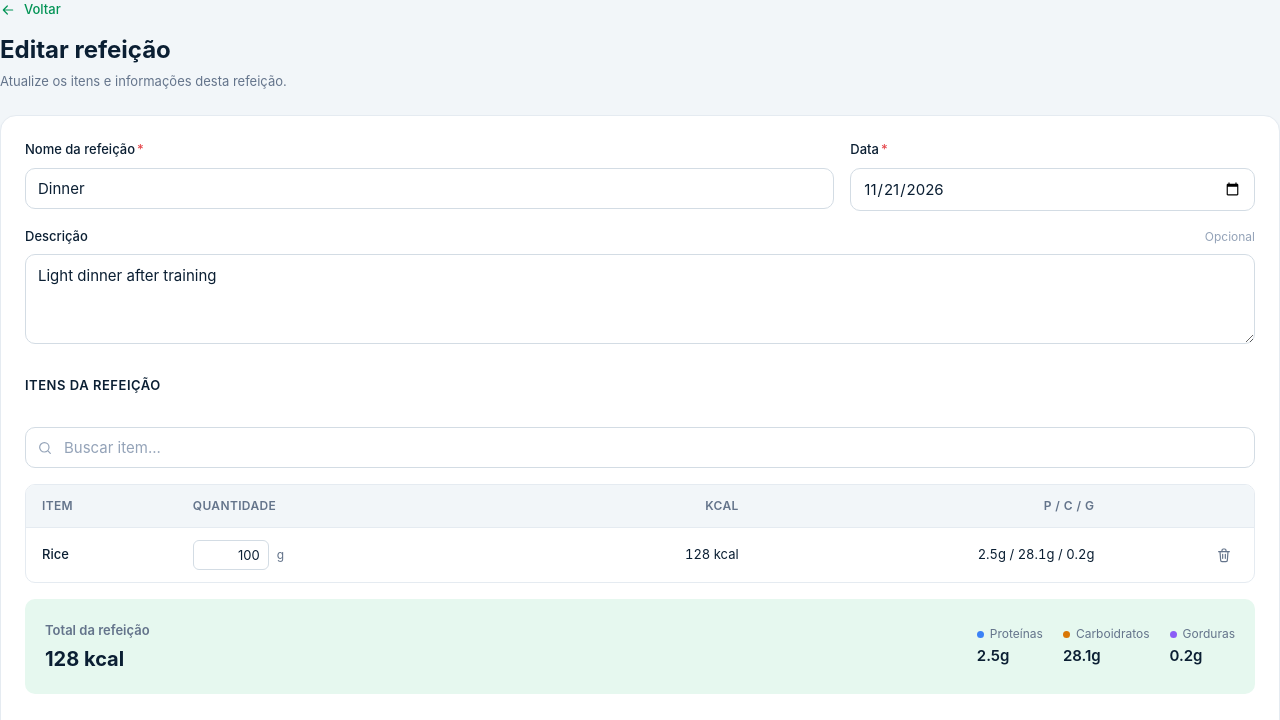
Scenario: MealEditPage › shows the saved quantity and saves one typed with a comma
Replace the text in the field named "Quantidade de Rice" with "150,5" at {"x": 231, "y": 555}, box [193,540,269,570]
(page scrolled)
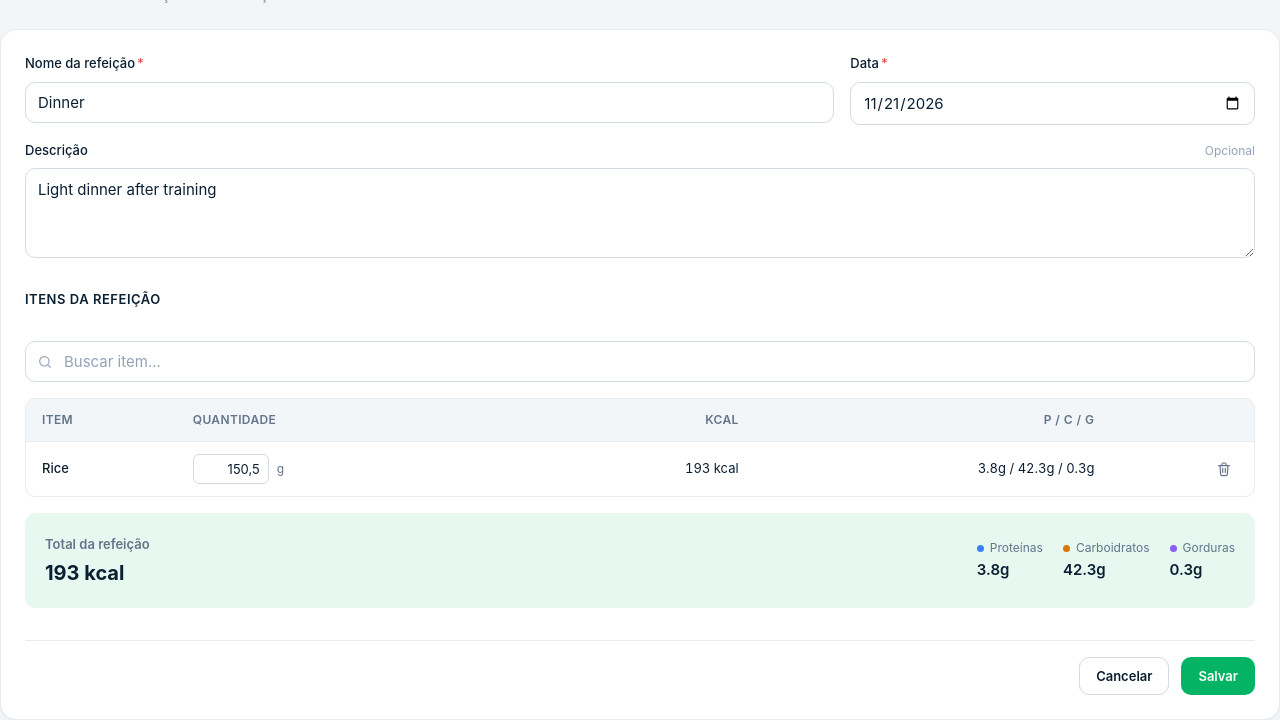
Click the button "Salvar" at {"x": 1218, "y": 676}, box [1181,656,1255,694]
(page scrolled)
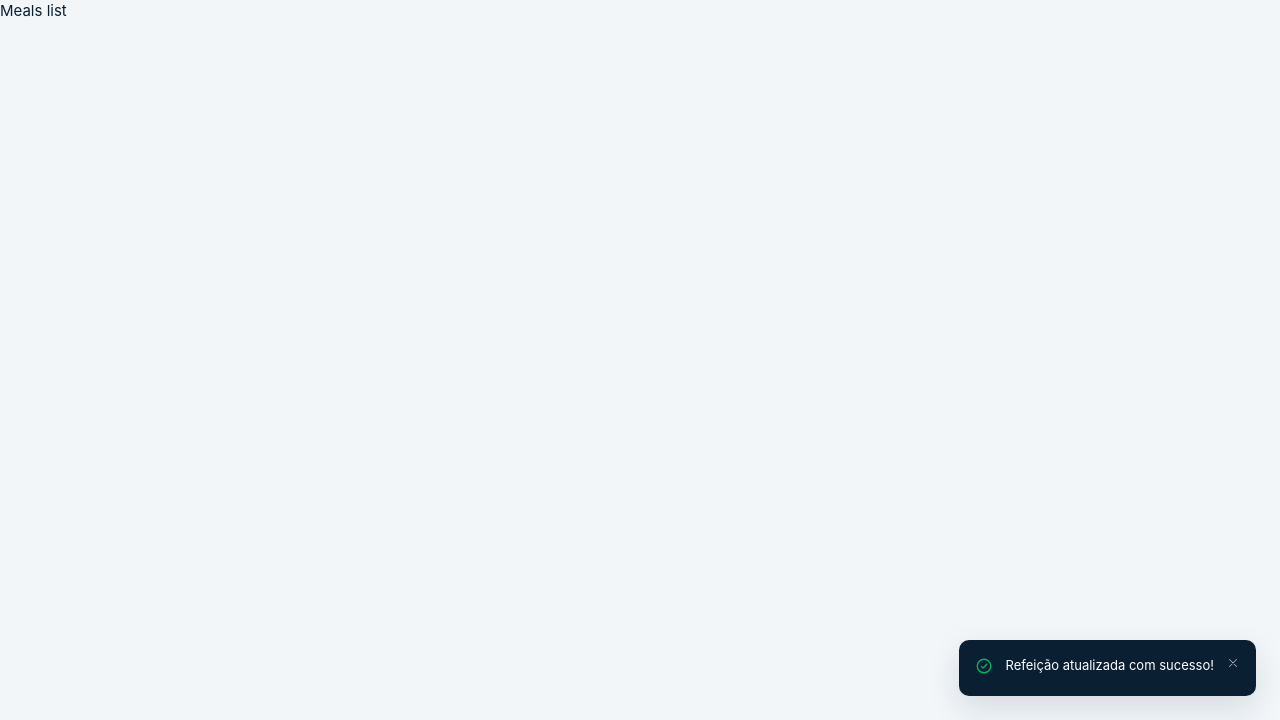
Now the text "Meals list" is shown, box [0,1,67,20]
